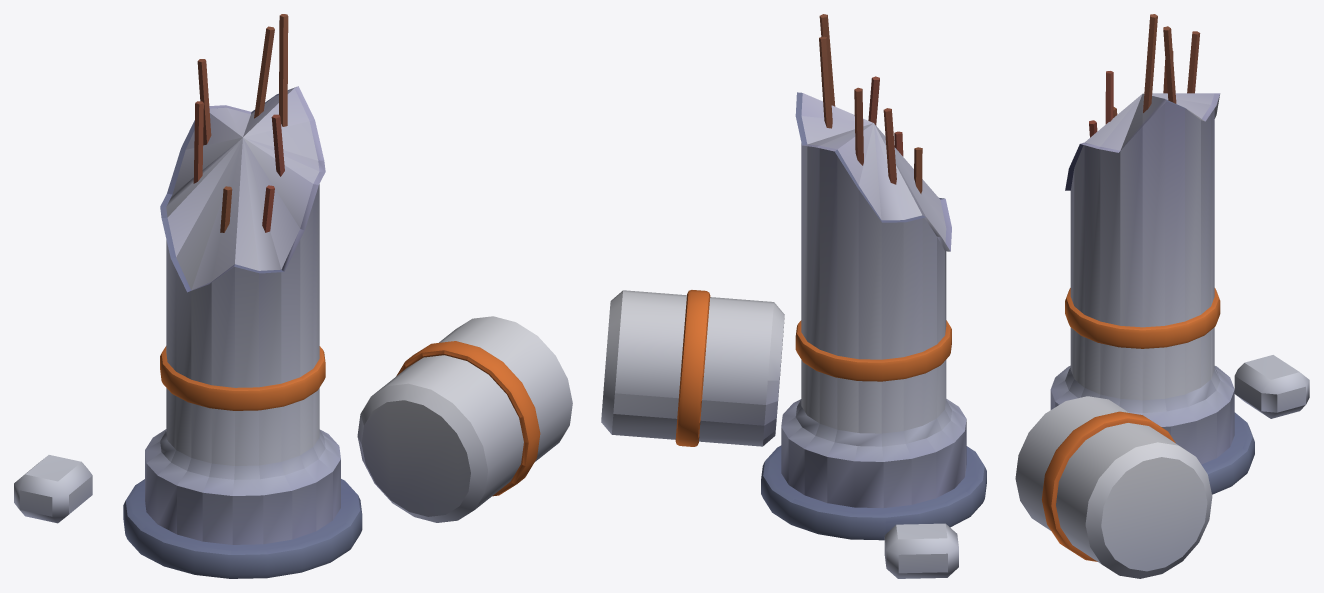
File: hub_ruin_pillar_broken.glb
3 views of the same model, side by side, from view 1: azimuth 30°, elevation 25°; view 2: azimuth 150°, elevation 25°; view 3: azimuth 270°, elevation 25° (orthographic). The views are drawn at different scales.
Parts seen in each view (by area): view 1: hub_ruin_pillar_broken; view 2: hub_ruin_pillar_broken; view 3: hub_ruin_pillar_broken.
Part boxes in pixels (left/top/right/bottom): hub_ruin_pillar_broken: left=14, top=14, right=572, bottom=578; hub_ruin_pillar_broken: left=601, top=14, right=986, bottom=578; hub_ruin_pillar_broken: left=1015, top=14, right=1309, bottom=578.
Bounding box in the file's own units: 3.45 × 3.6 × 2.05.
